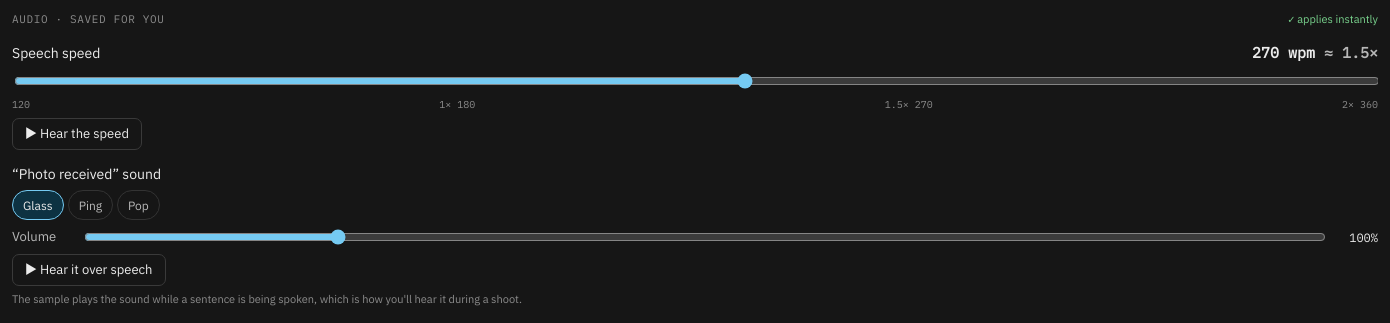
audio settings › shows the saved speed, saves a new one after the slider settles, and previews it
Set the slider labelled "Speech speed" to "300" at (889, 81), box left=14, top=72, right=1378, bottom=90
Wait 400 ms
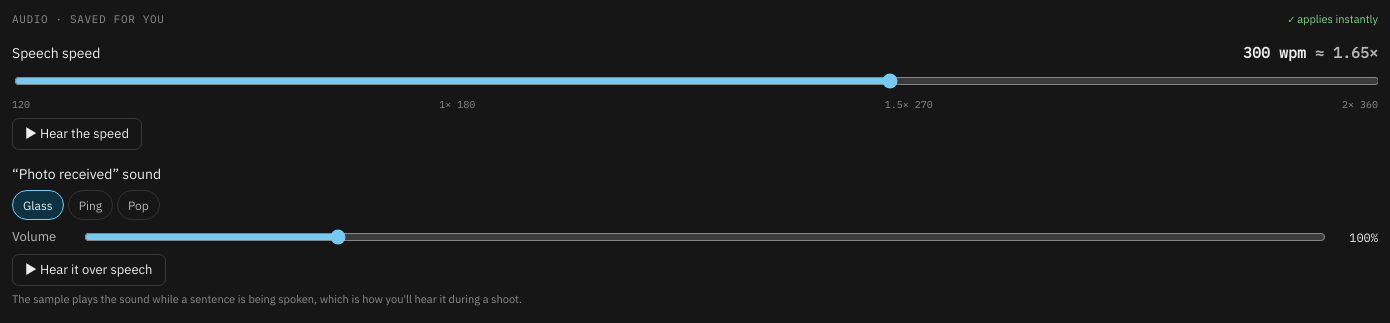
Click the button "▶ Hear the speed" at (77, 134), box left=12, top=118, right=142, bottom=150
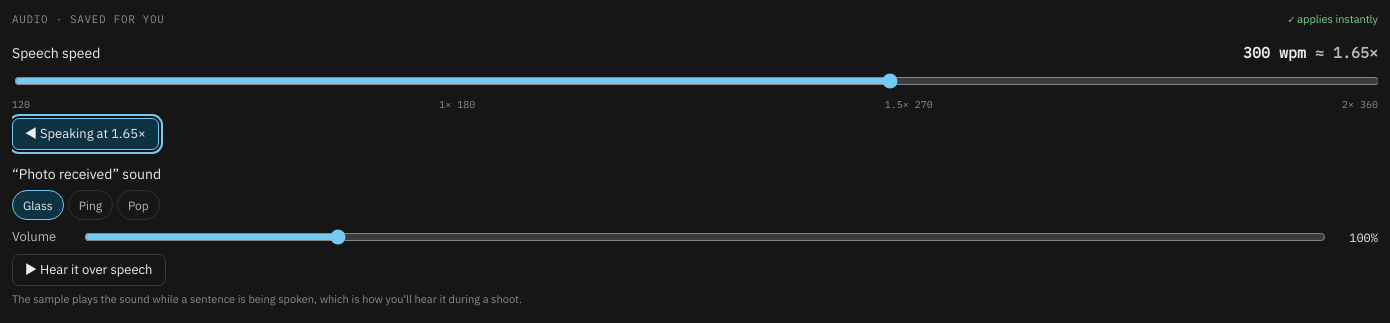
Expected: the button "◀ Speaking at 1.65×" is shown, left=12, top=118, right=159, bottom=150
